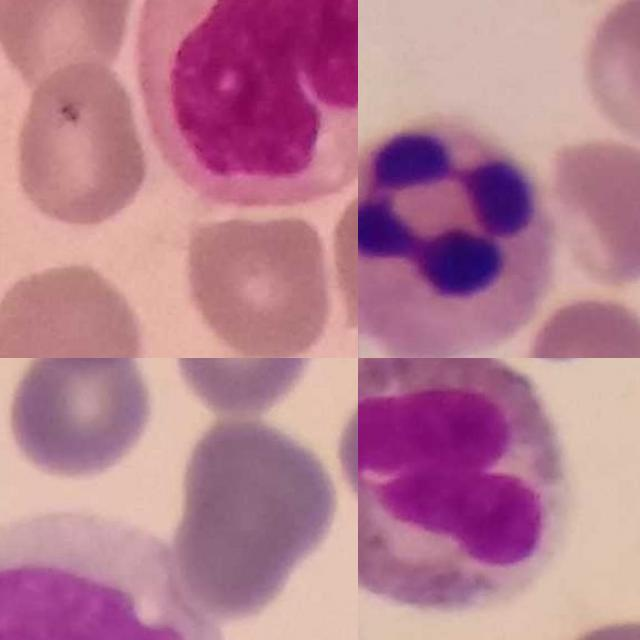Eosinophil: (358, 358, 569, 610)
Monocyte: (133, 0, 358, 209), (0, 511, 221, 640)
Neutrophil: (358, 120, 558, 358)
